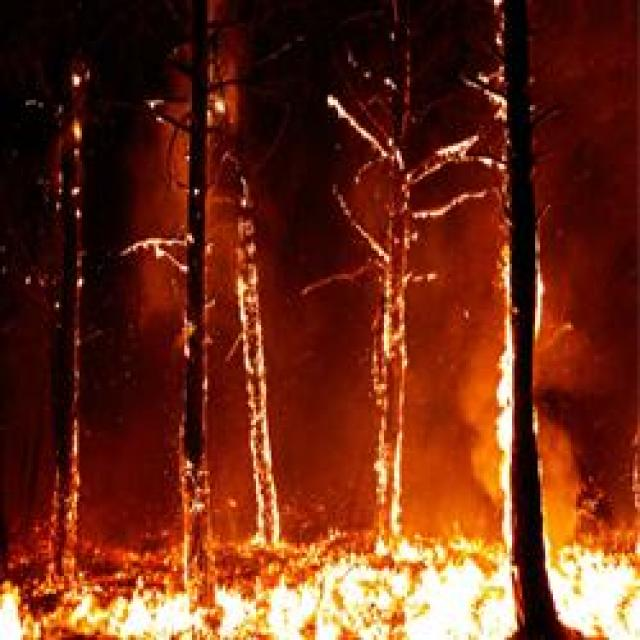fire: (225, 558, 507, 640), (9, 582, 220, 640), (550, 553, 640, 640)
smoke: (536, 316, 599, 552), (445, 333, 496, 514)
